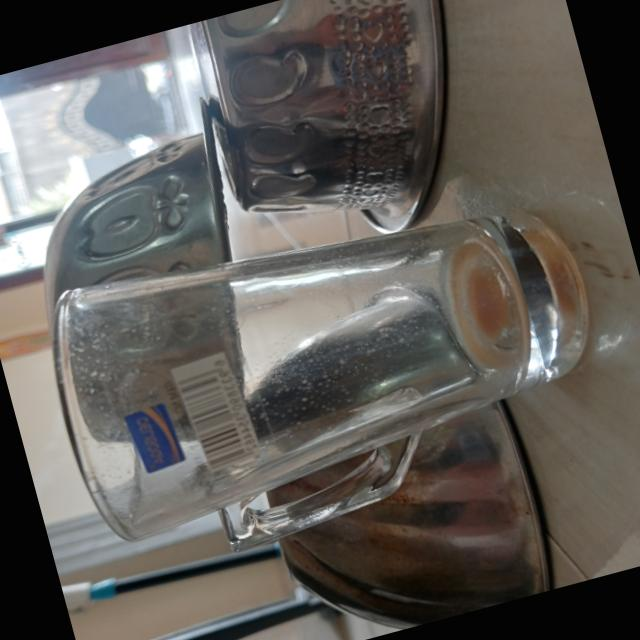glass-VX4N: (27, 155, 630, 586)
